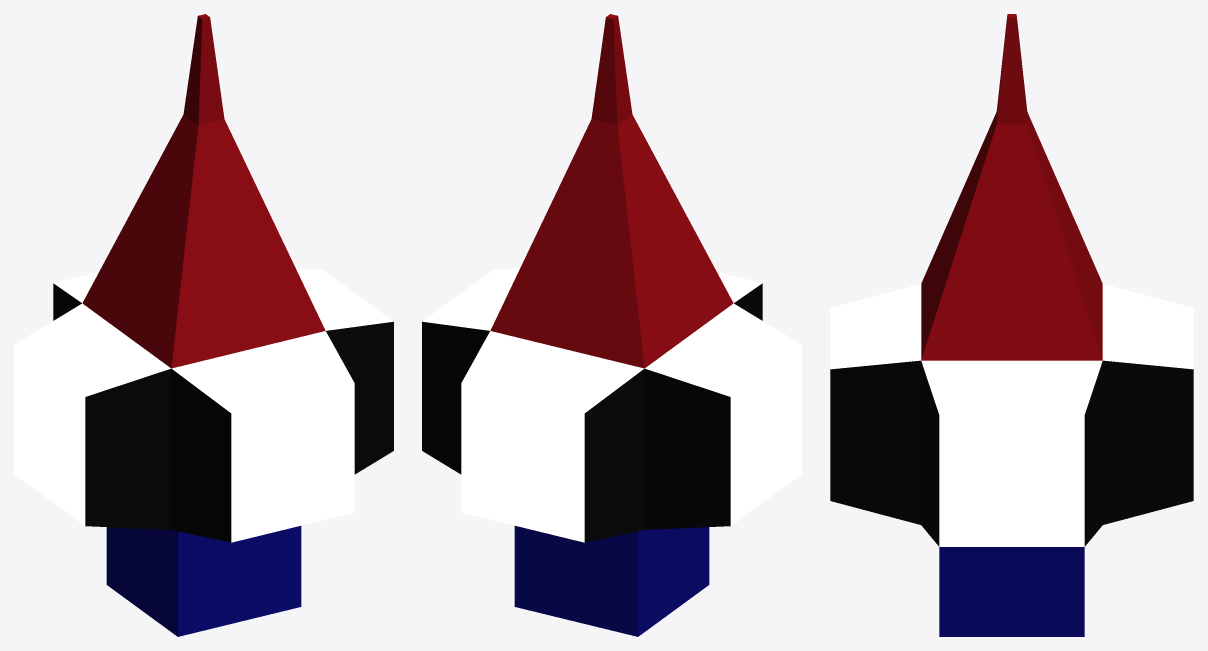
File: Floating Lantern Garage.glb
3 renders of one model, left to right at view 1: azimuth 30°, elevation 25°; view 2: azimuth 150°, elevation 25°; view 3: azimuth 270°, elevation 25°, orthographic.
Visible parts, largest first — view 1: Cube; view 2: Cube; view 3: Cube.
Part boxes in pixels (x1=…): Cube: x1=14, y1=14, x2=393, y2=636; Cube: x1=422, y1=14, x2=801, y2=636; Cube: x1=830, y1=14, x2=1193, y2=636.
Bounding box in the file's own units: 2 × 3.68 × 2.
